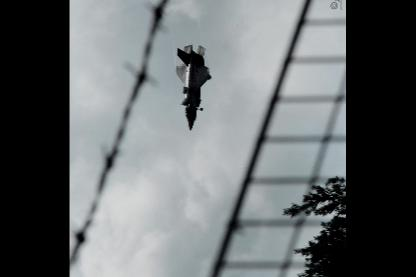F22: (176, 44, 212, 131)
